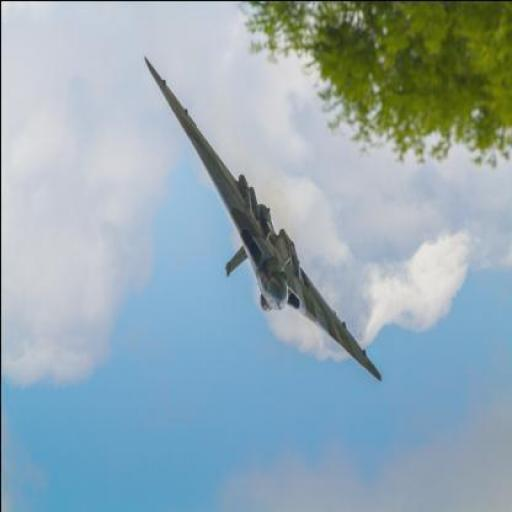aircraft: (140, 48, 390, 396)
